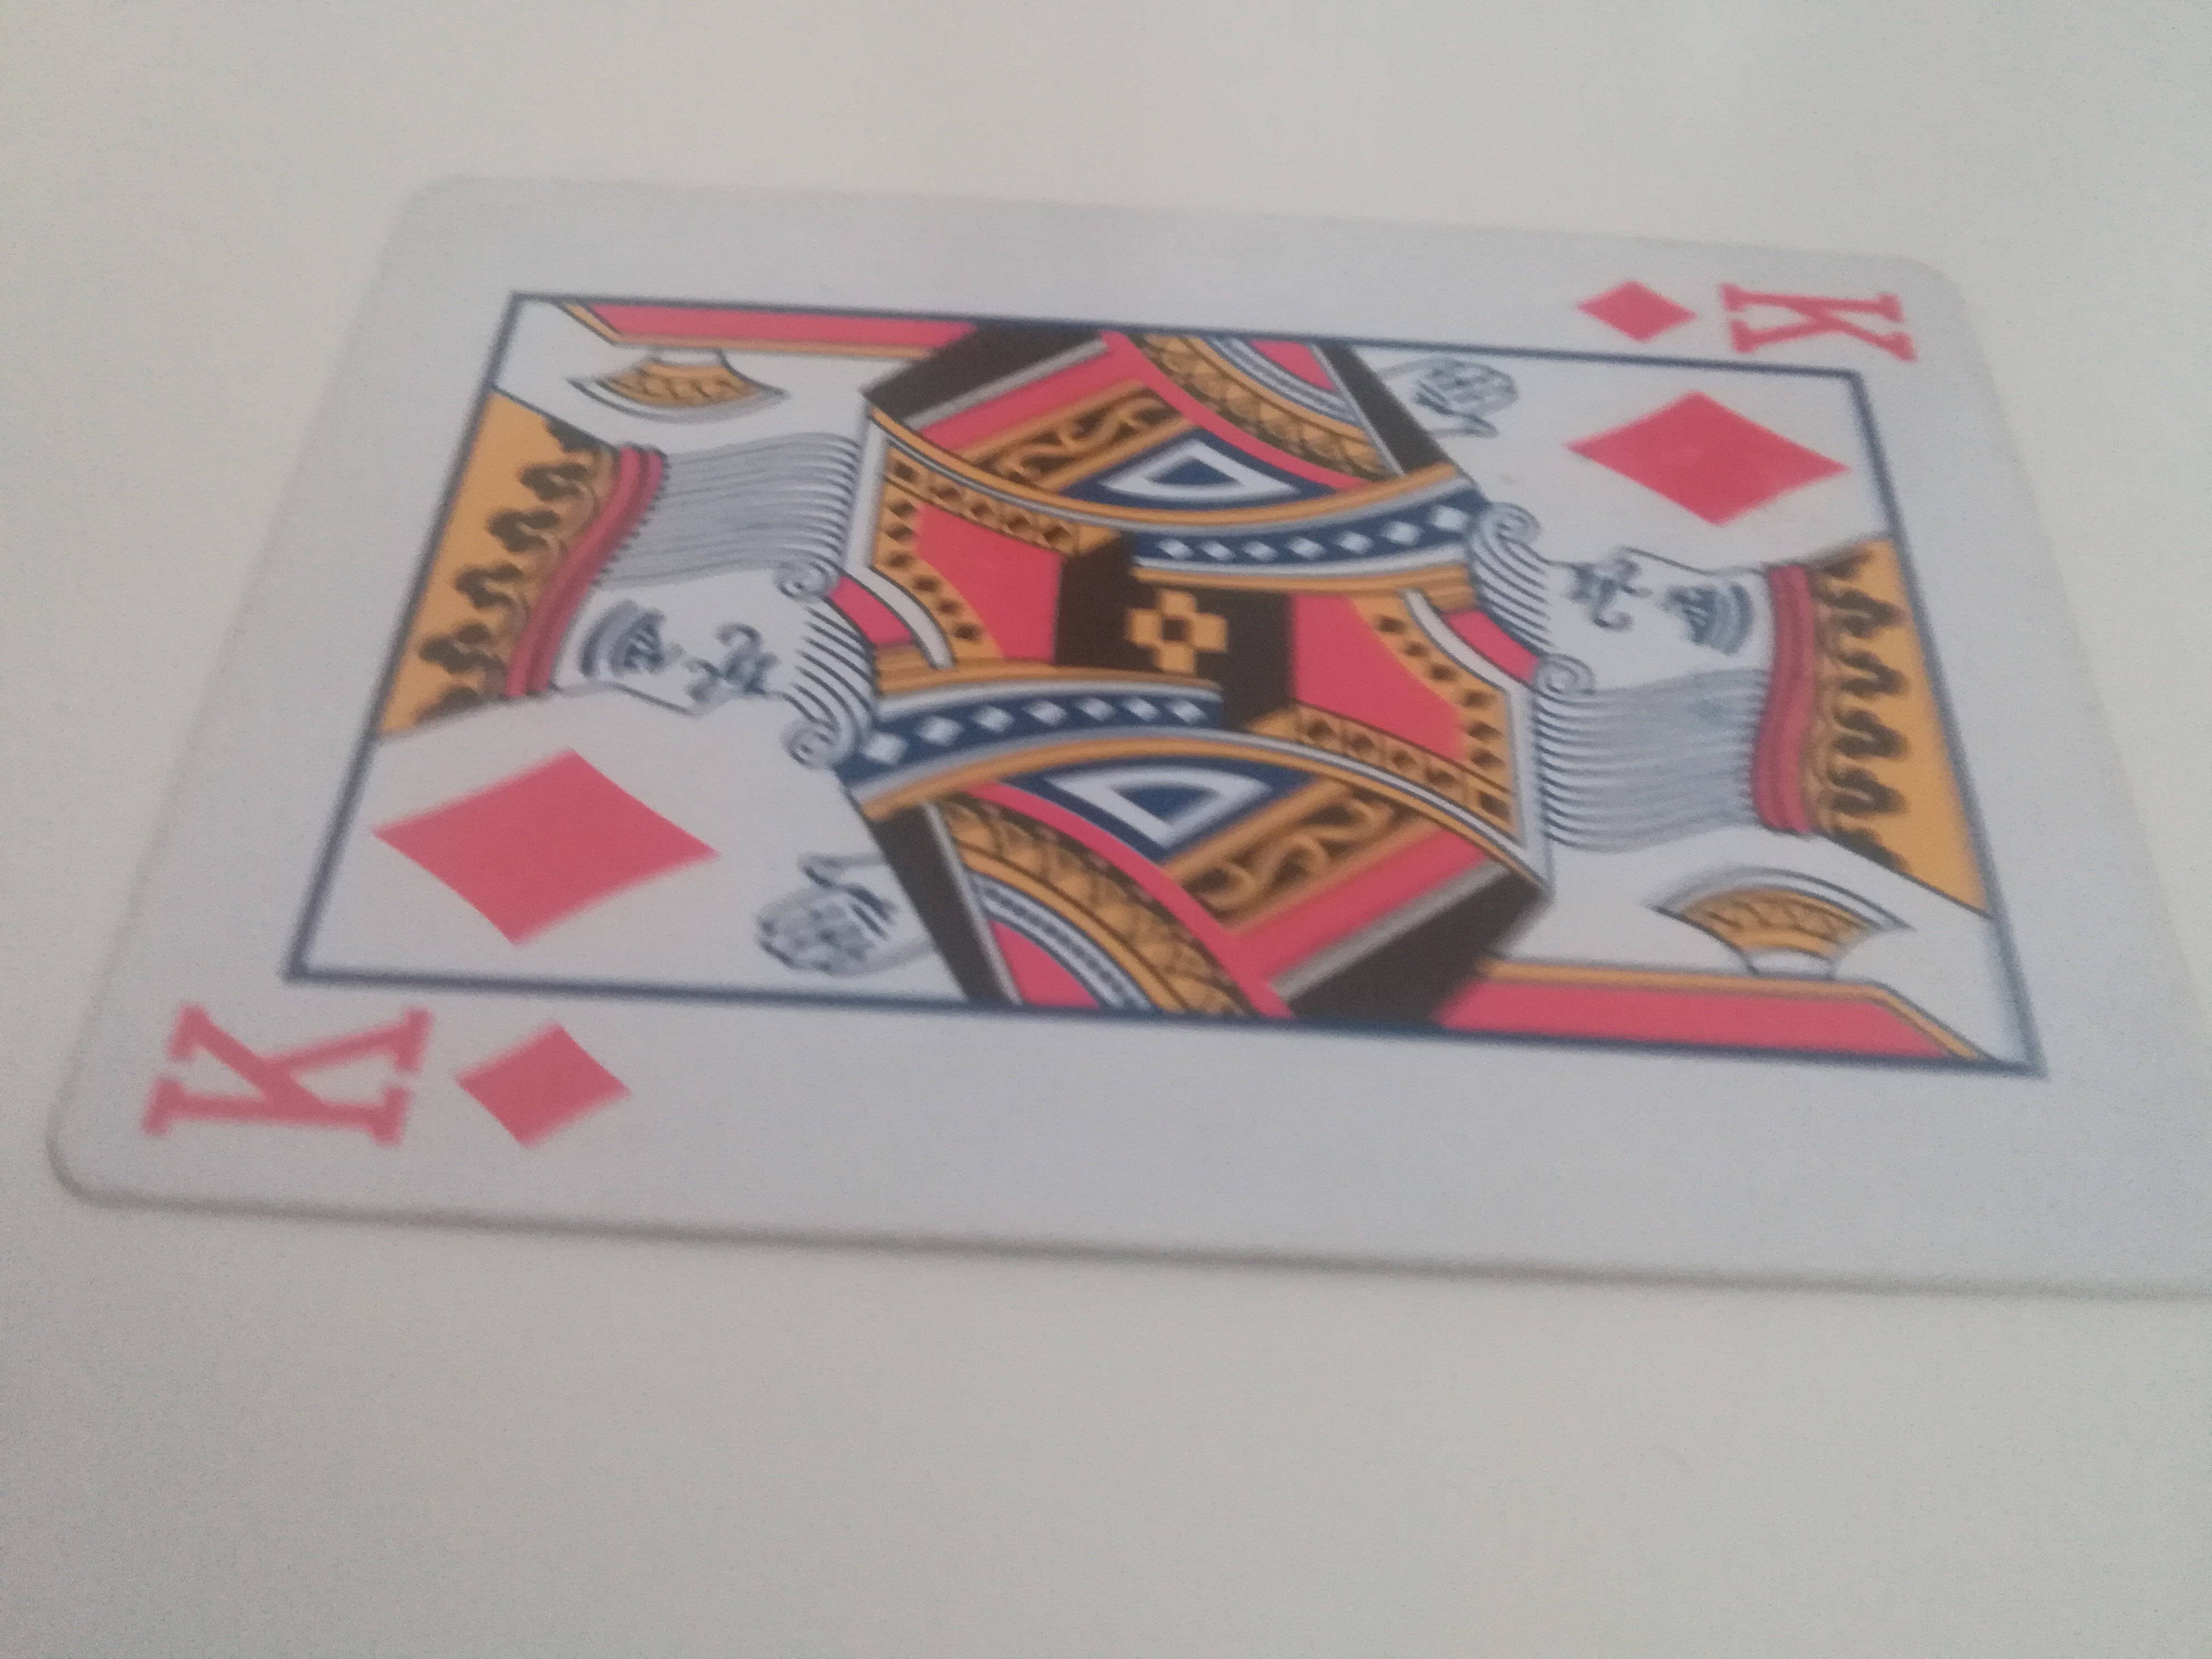KD: (49, 192, 2212, 1229)
